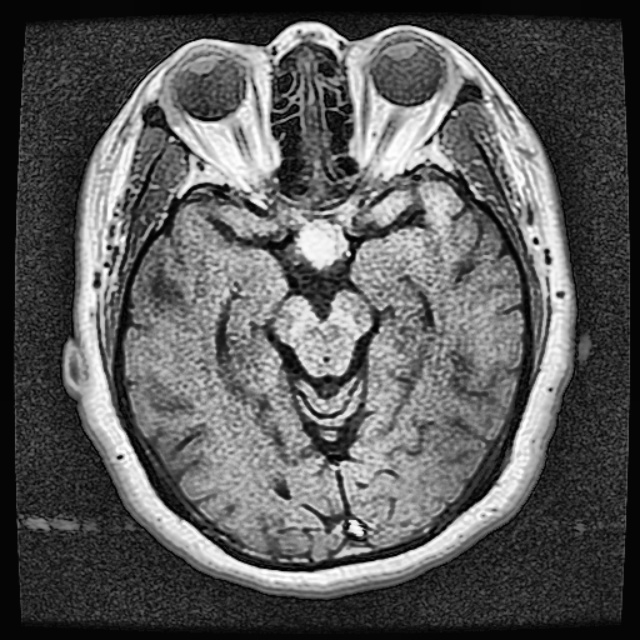Pituitary: (299, 217, 347, 267)
